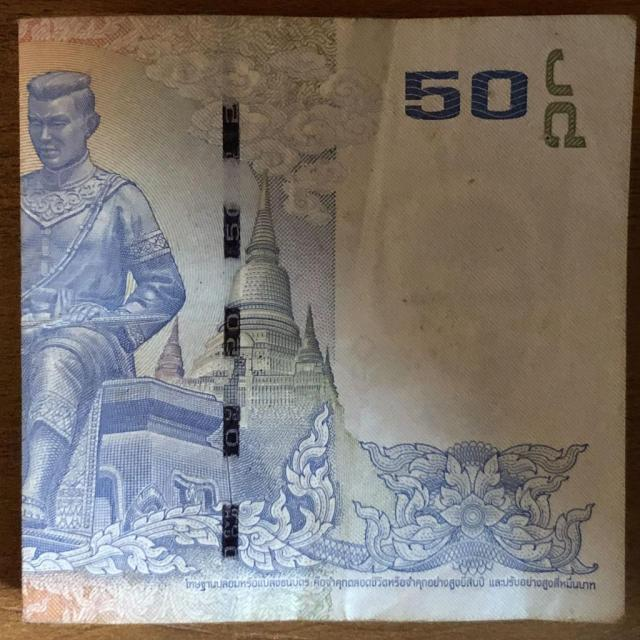THAI50: (21, 15, 636, 623)
